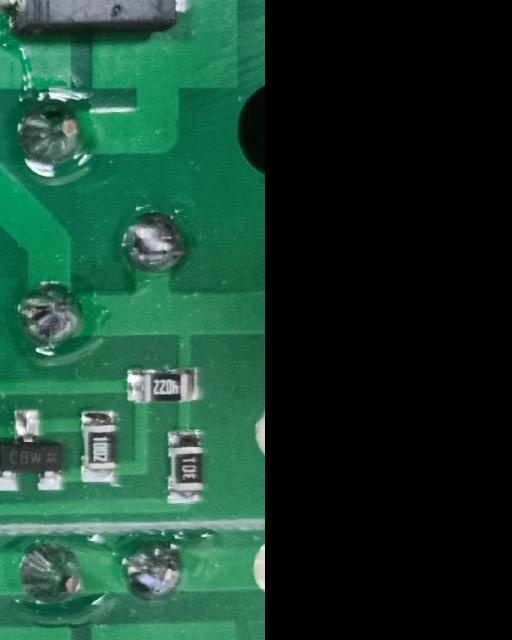chip-resistor: (164, 429, 204, 506), (124, 367, 201, 405), (82, 410, 121, 485)
transistor: (0, 408, 66, 494)
